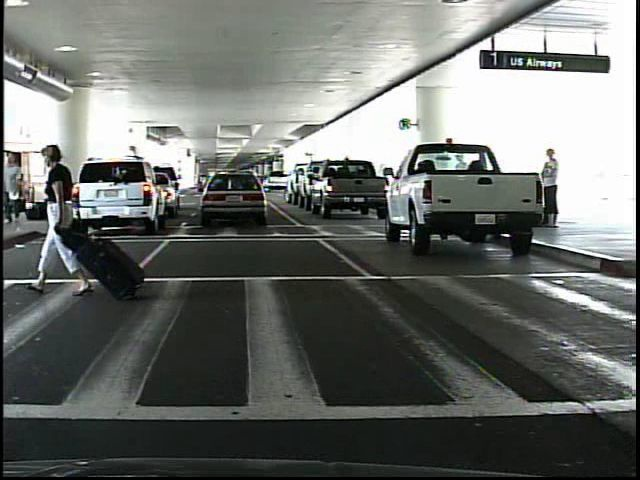person: (25, 143, 96, 292), (526, 150, 564, 228), (3, 153, 24, 224), (43, 157, 65, 222)
